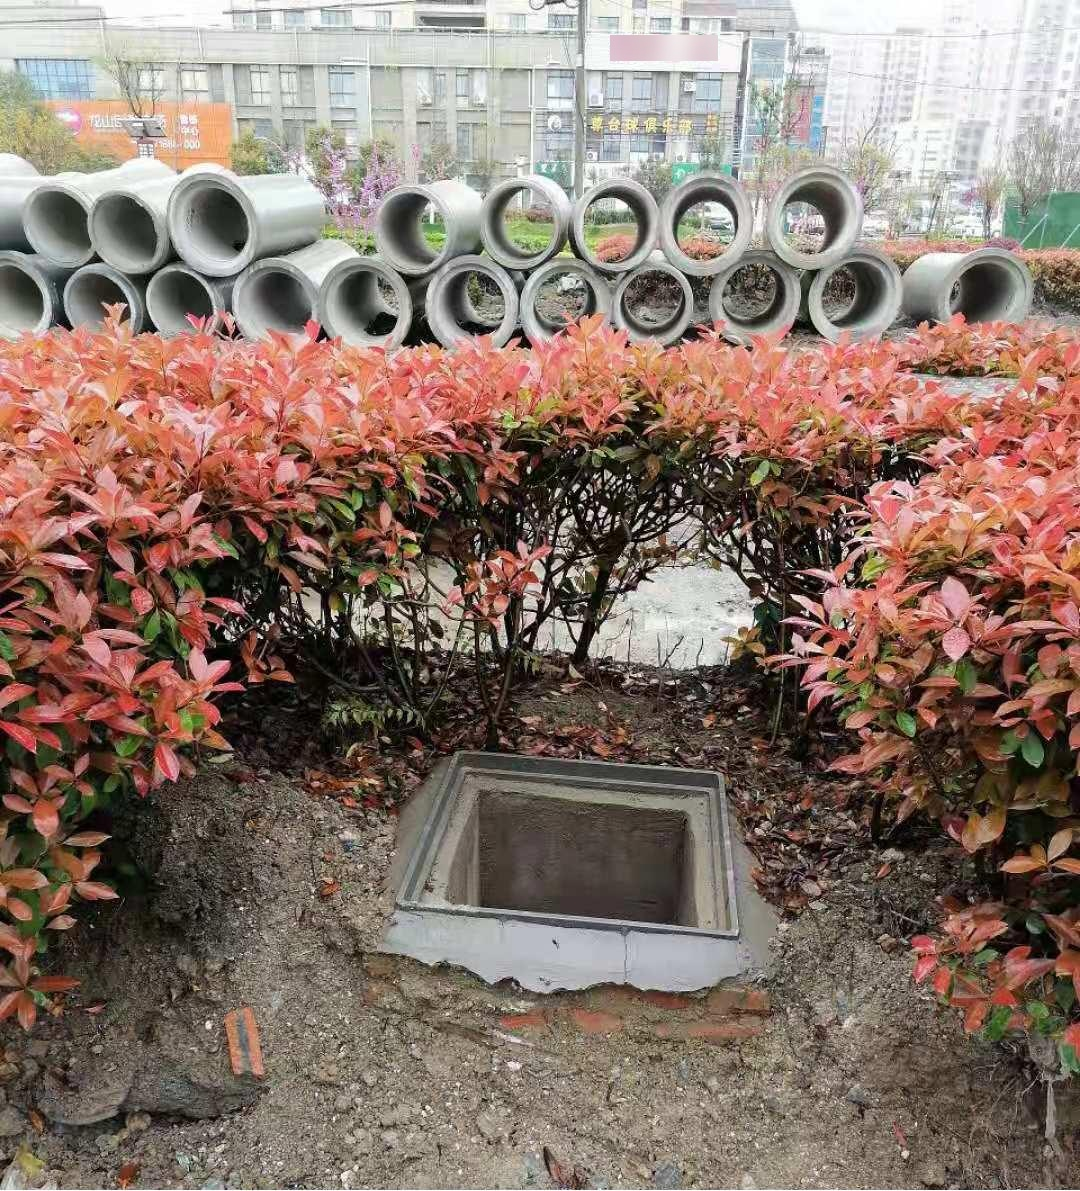lose: (393, 746, 746, 945)
